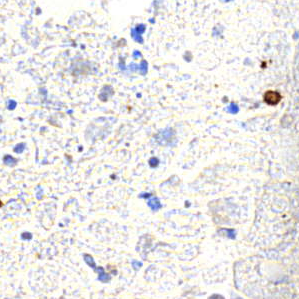Lymphocyte: (262, 89, 284, 108)
